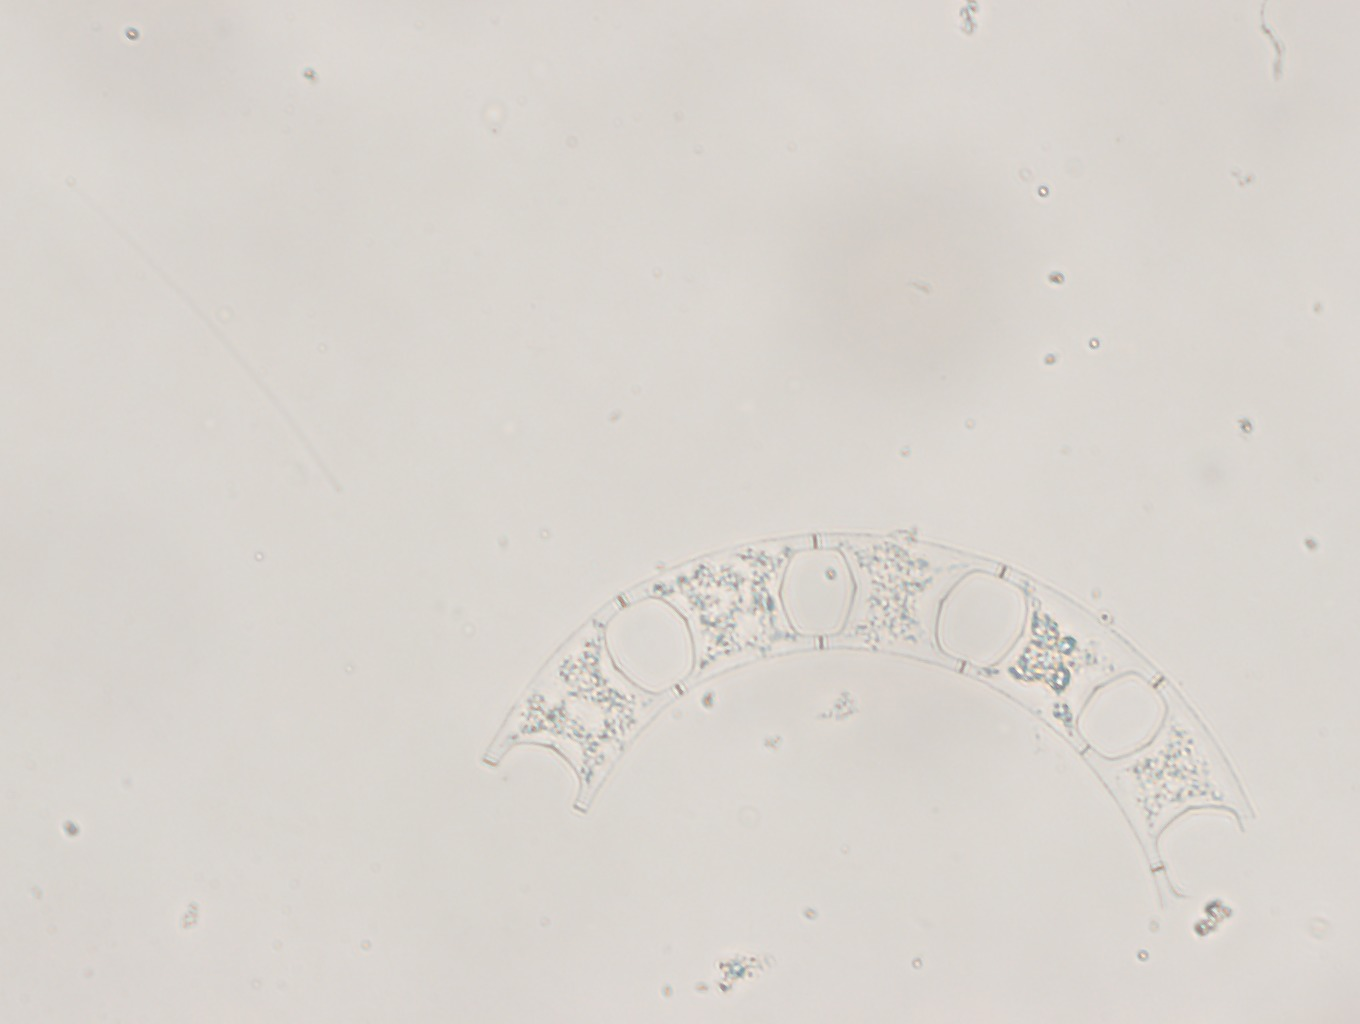eucampia: (477, 522, 1290, 969)
